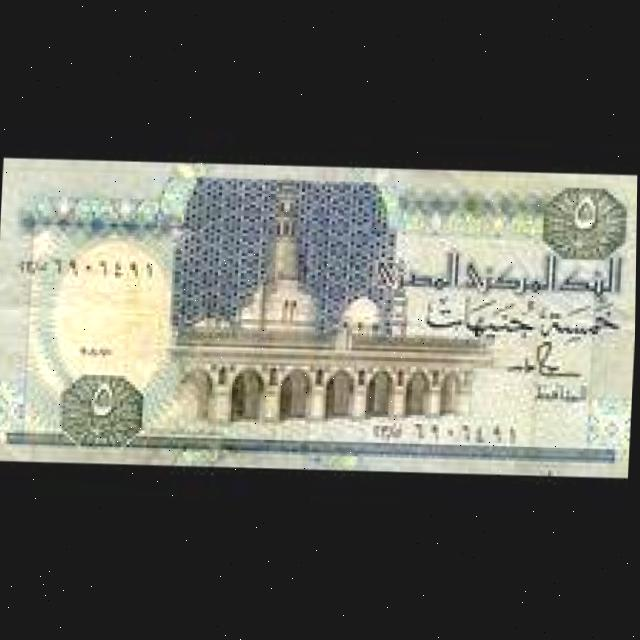banknote: (0, 150, 638, 479)
